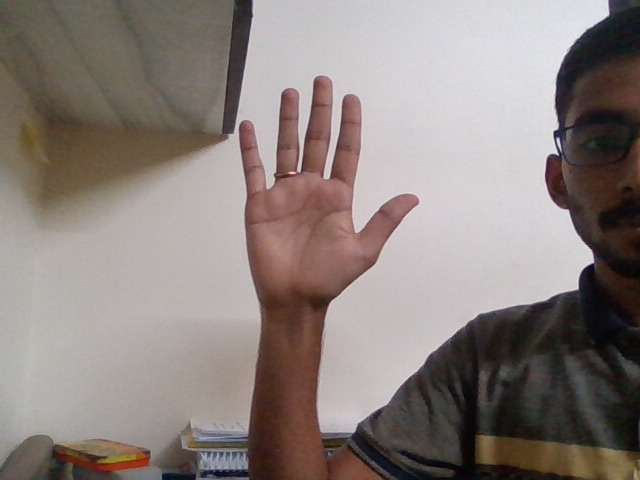Hello: (218, 65, 430, 337)
